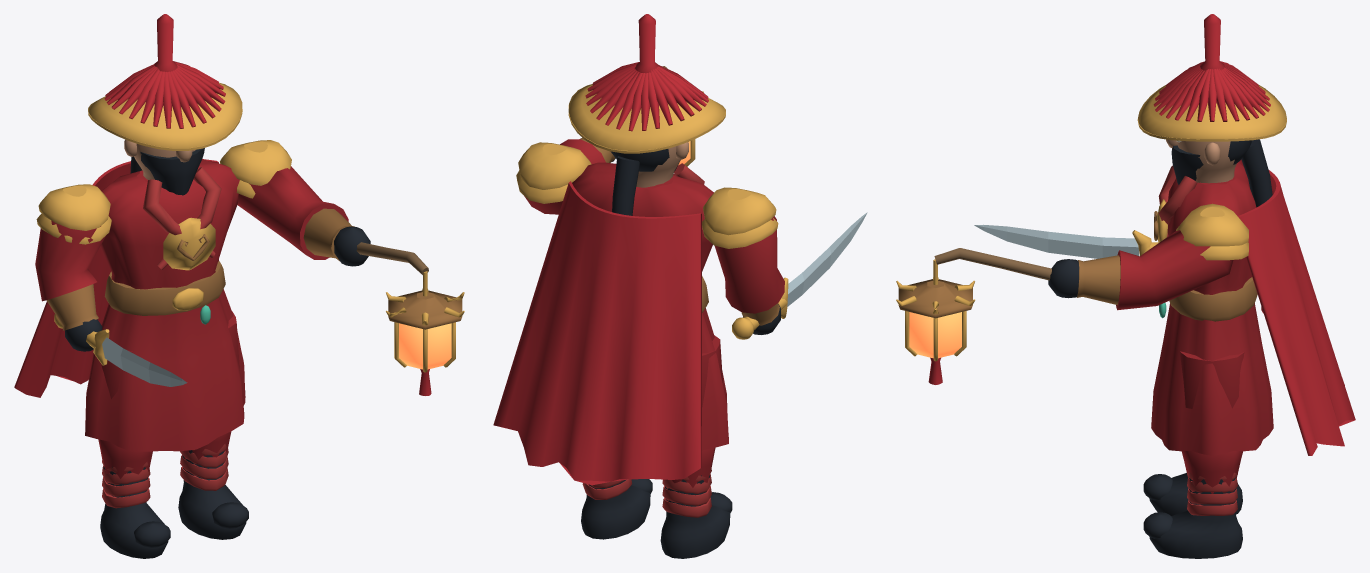
Rendered from GuardElite.glb.
3 renders of one model, left to right at view 1: azimuth 30°, elevation 25°; view 2: azimuth 150°, elevation 25°; view 3: azimuth 270°, elevation 25°, orthographic.
Visible parts, largest first — view 1: Pleated riding coat, Cape, Court hat, Silk sleeve.001, Silk sleeve, Waist girdle, Scaled pauldron.001, Cloud toe boot, Cloud toe boot.001, Scaled pauldron.003, Pagoda canopy, Luminous silk (+19 smaller); view 2: Cape, Pleated riding coat, Court hat, Silk sleeve, Cloud toe boot, Cloud toe boot.001, Scaled pauldron.001, Scaled pauldron.003, Willow leaf blade, Qing queue braid, Scaled pauldron, Gathered trouser (+10 smaller); view 3: Pleated riding coat, Cape, Silk sleeve.001, Court hat, Cloud toe boot.001, Gathered trouser.001, Willow leaf blade, Scaled pauldron.003, Waist girdle, Pagoda canopy, Luminous silk, Vambrace.001 (+13 smaller).
Part boxes in pixels (x1,y1,x2,y2): Pleated riding coat: (85, 159, 245, 451); Cape: (14, 159, 218, 397); Court hat: (88, 82, 242, 148); Silk sleeve.001: (237, 166, 348, 259); Silk sleeve: (35, 220, 105, 301); Waist girdle: (104, 261, 225, 315); Scaled pauldron.001: (38, 184, 110, 230); Cloud toe boot: (100, 466, 168, 558); Cloud toe boot.001: (178, 450, 246, 539); Scaled pauldron.003: (220, 140, 291, 185); Pagoda canopy: (388, 290, 462, 329); Luminous silk: (399, 323, 451, 369); Cape: (493, 181, 701, 485); Pleated riding coat: (572, 162, 728, 450); Court hat: (568, 84, 725, 150); Silk sleeve: (714, 216, 784, 313); Cloud toe boot: (660, 469, 730, 558); Cloud toe boot.001: (581, 480, 650, 539); Scaled pauldron.001: (703, 187, 776, 235); Scaled pauldron.003: (518, 142, 591, 189); Willow leaf blade: (787, 212, 867, 306); Qing queue braid: (612, 156, 639, 215); Scaled pauldron: (702, 218, 778, 248); Gathered trouser: (664, 335, 722, 487); Pleated riding coat: (1151, 162, 1273, 455); Cape: (1237, 159, 1355, 455); Silk sleeve.001: (1116, 230, 1233, 310); Court hat: (1138, 84, 1286, 139); Cloud toe boot.001: (1149, 478, 1242, 558); Gathered trouser.001: (1180, 351, 1244, 493); Willow leaf blade: (974, 224, 1138, 258); Scaled pauldron.003: (1176, 203, 1248, 246); Waist girdle: (1169, 277, 1257, 321); Pagoda canopy: (898, 279, 972, 318); Luminous silk: (909, 312, 961, 358); Vambrace.001: (1077, 255, 1120, 304).
Size of the model in its own units: 1.25 by 2.13 by 1.73.
